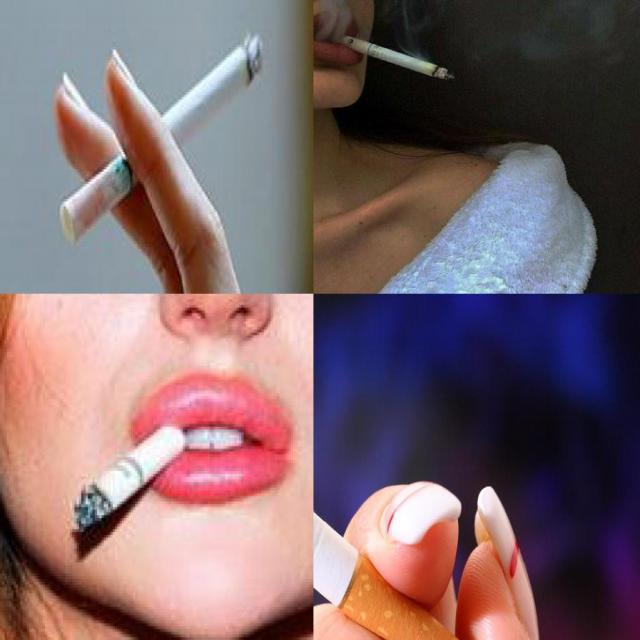cigarette: (314, 321, 484, 639), (60, 34, 263, 248), (74, 426, 186, 529), (330, 33, 456, 81)
